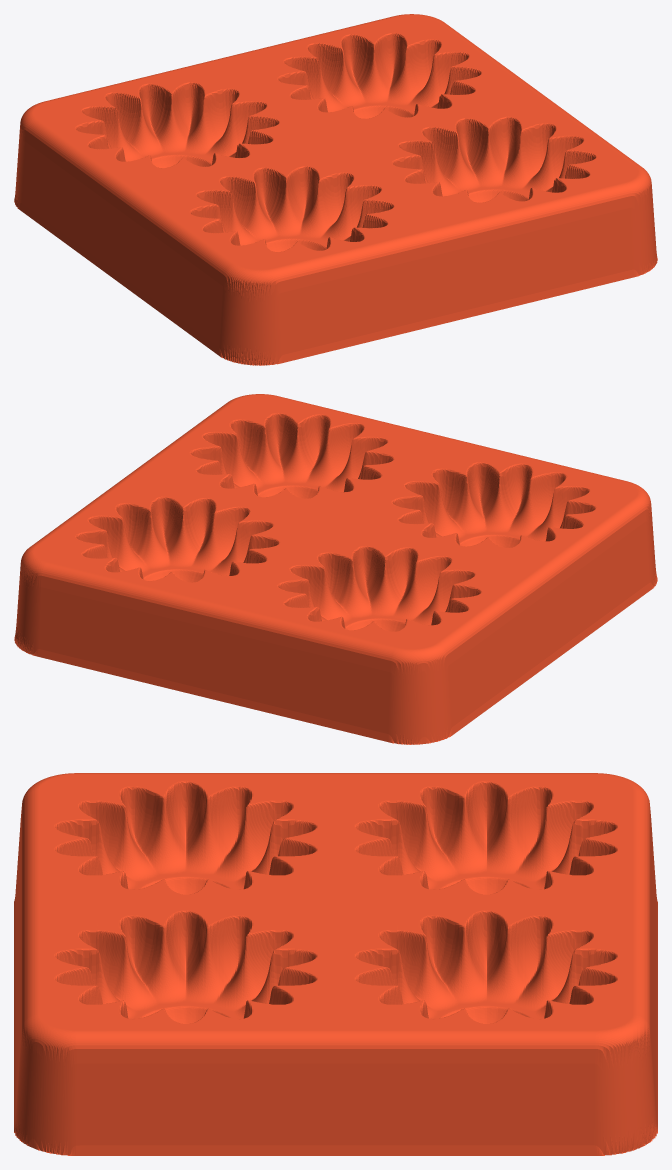
The model's file is mold.glb.
3 views of the same model, one above another, from view 1: azimuth 30°, elevation 25°; view 2: azimuth 150°, elevation 25°; view 3: azimuth 270°, elevation 25° (orthographic). The views are drawn at different scales.
Visible parts, largest first — view 1: geometry_0; view 2: geometry_0; view 3: geometry_0.
Boxes of the visible parts, <box> form: geometry_0: <box>14,14,657,365</box>; geometry_0: <box>14,394,657,744</box>; geometry_0: <box>14,773,657,1155</box>.
Size of the model in its own units: 0.0942 by 0.0182 by 0.0926.
